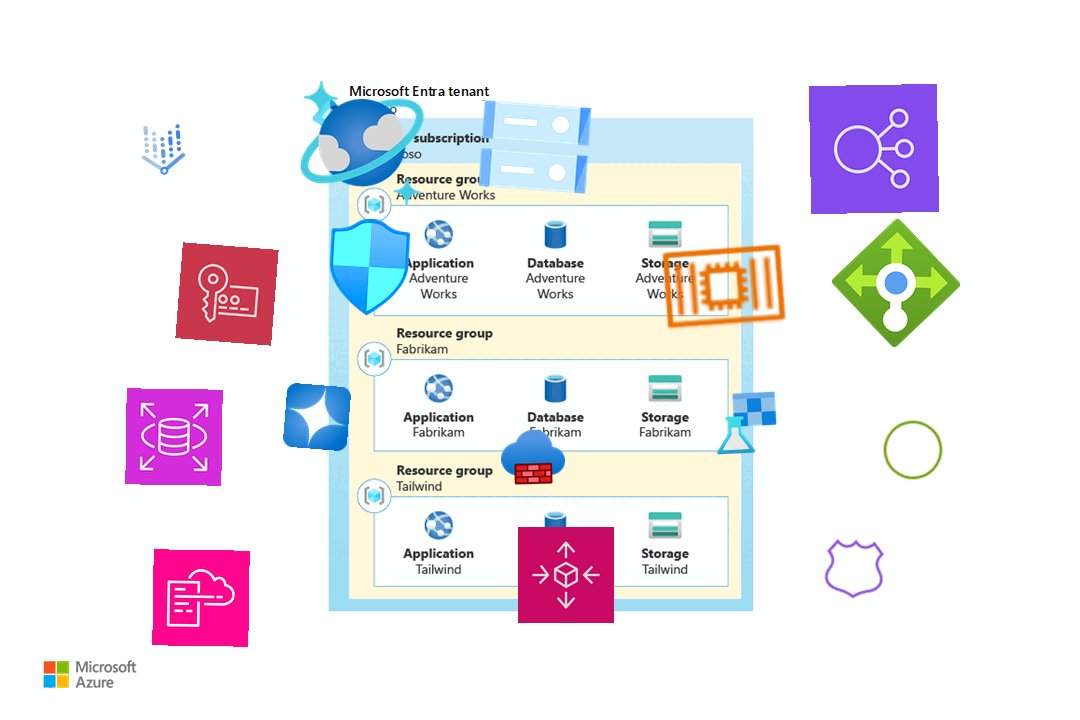aws_amazon_rds: (125, 388, 223, 486)
aws_auto_scaling: (517, 526, 615, 624)
aws_cloudformation: (152, 549, 250, 647)
aws_elastic_container_service_container_2: (655, 217, 793, 355)
aws_elastic_load_balancing: (808, 83, 940, 215)
aws_key_management_service: (175, 242, 279, 346)
aws_route_53_hosted_zone: (820, 534, 890, 604)
aws_simple_storage_service_object: (879, 416, 947, 484)
azure_cosmos_db: (295, 76, 429, 210)
azure_firewalls: (500, 424, 566, 490)
azure_load_balancers: (830, 217, 962, 349)
azure_machine_learning_studio_workspaces: (712, 389, 780, 457)
azure_network_security_groups: (318, 216, 420, 318)
azure_openai: (282, 382, 352, 452)
gcp_cloud_storage: (466, 78, 604, 216)
gcp_vertex_ai: (129, 116, 197, 184)
